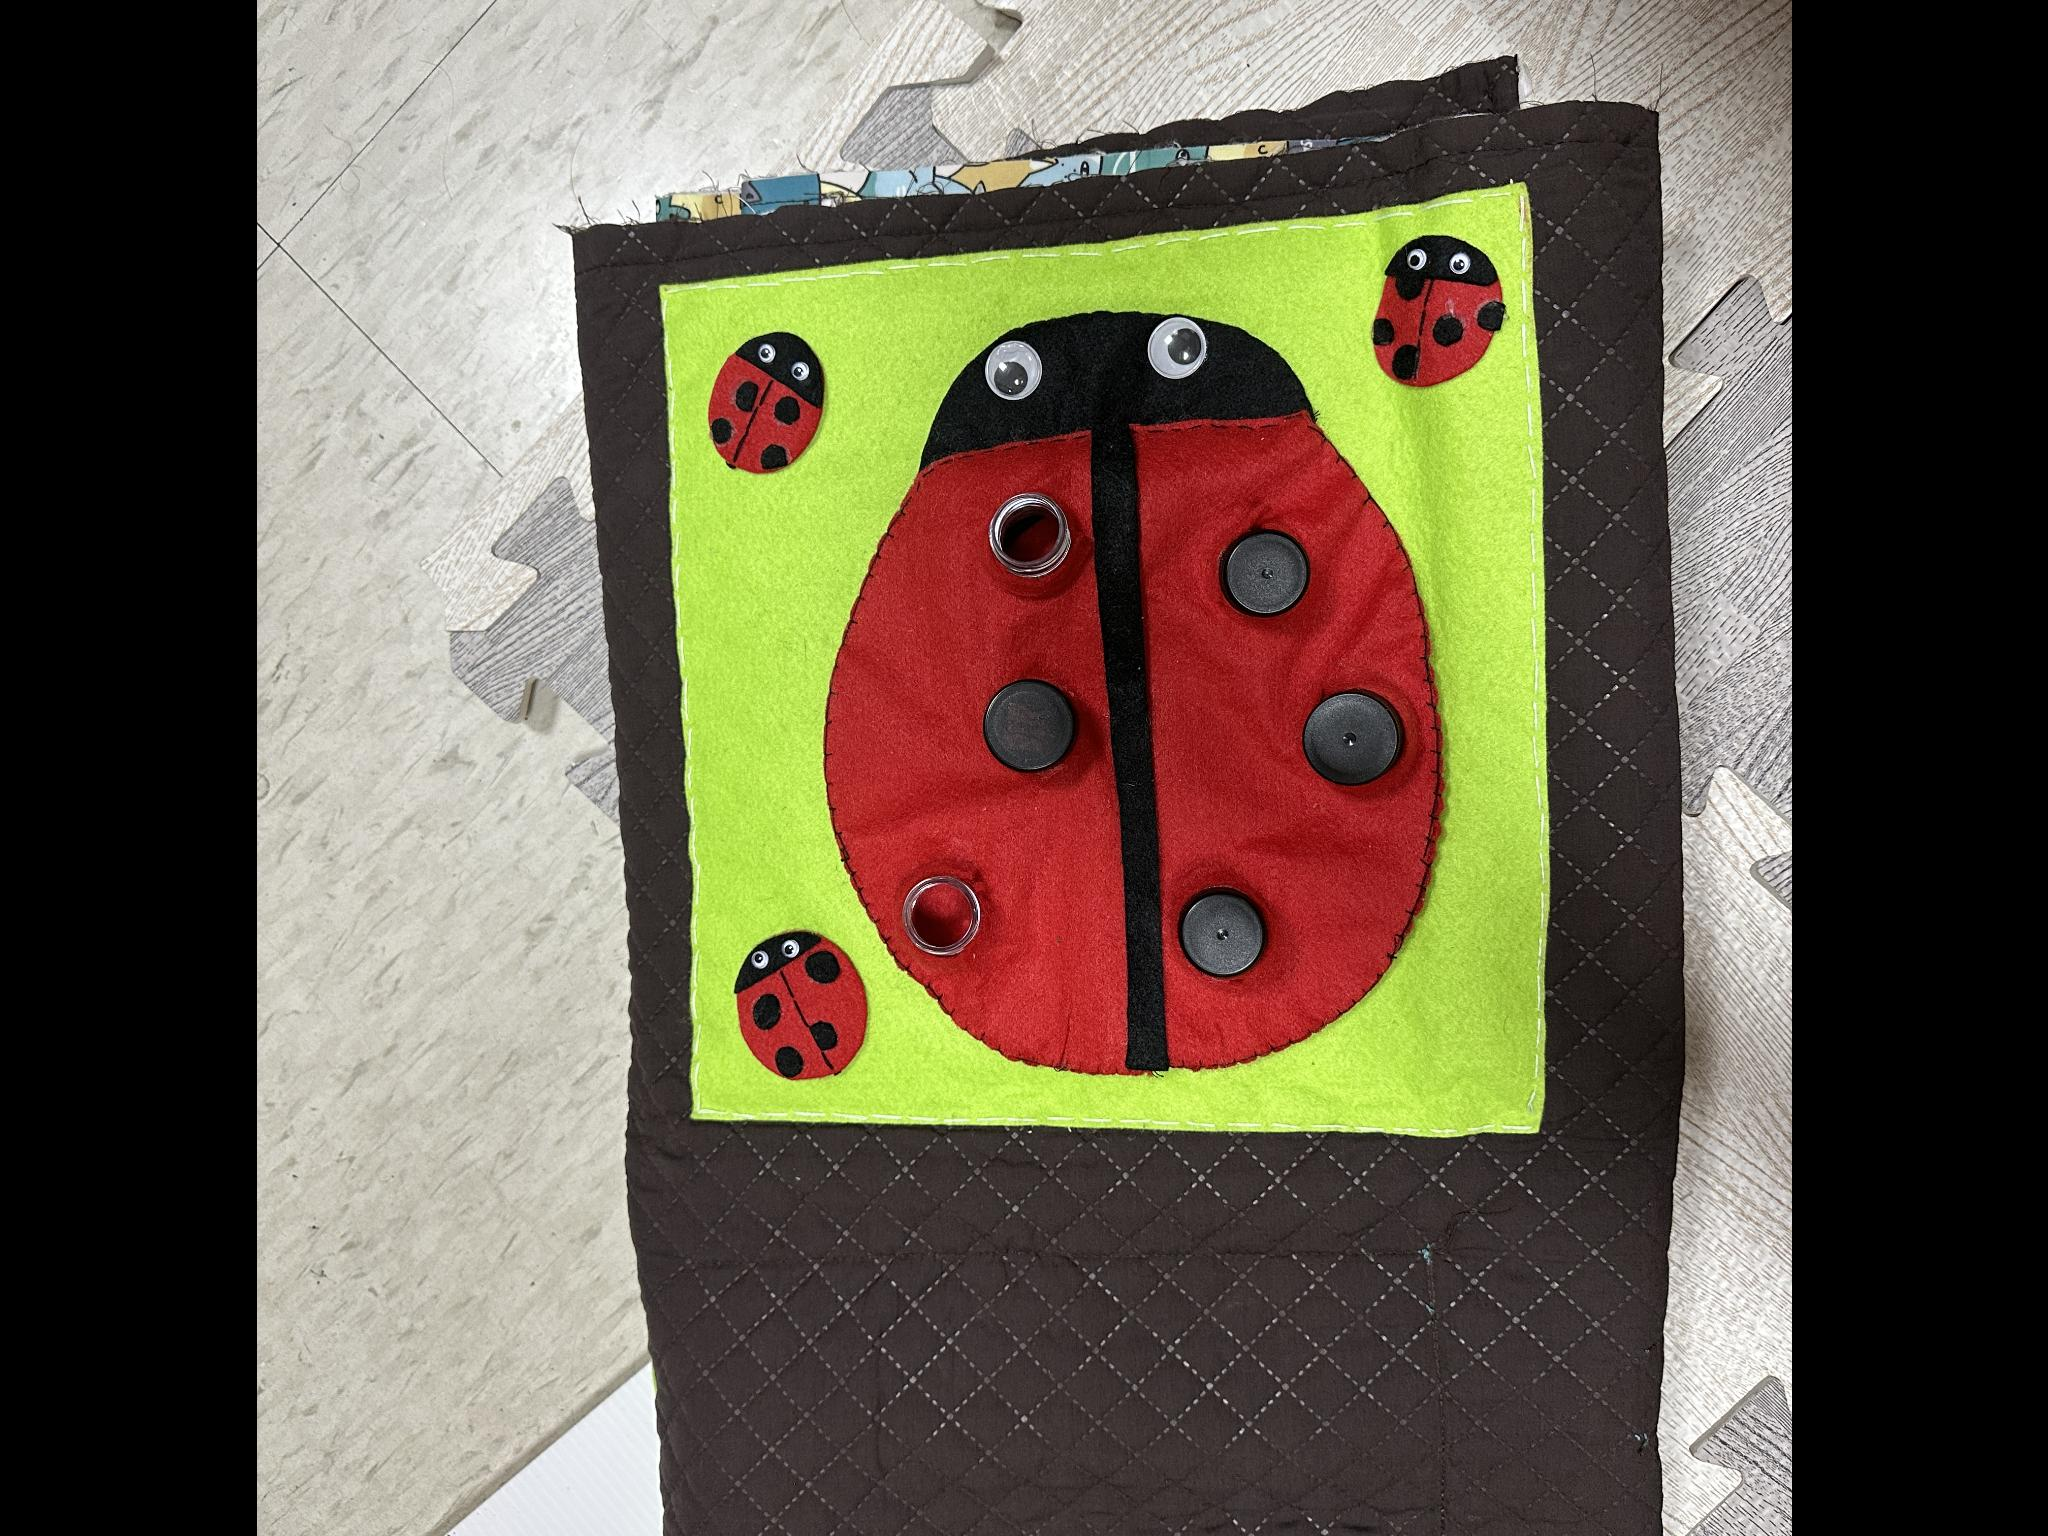cap_ok: (1293, 668, 1430, 803), (958, 666, 1098, 792), (1201, 515, 1330, 644), (1161, 874, 1280, 997)
